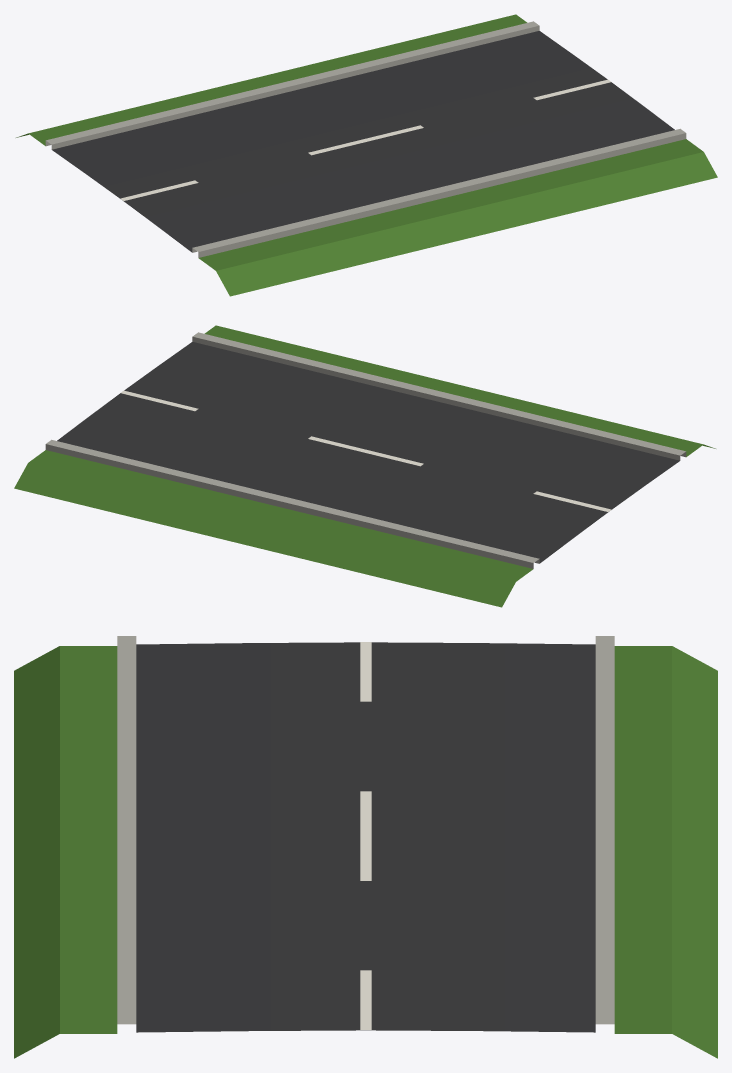
The model's file is road_straight_center.glb.
The picture shows the model from 3 angles, top to bottom: view 1: azimuth 30°, elevation 25°; view 2: azimuth 150°, elevation 25°; view 3: azimuth 270°, elevation 25°; orthographic projection. The views are drawn at different scales.
Parts seen in each view (by area): view 1: road_straight_center_lod0; view 2: road_straight_center_lod0; view 3: road_straight_center_lod0.
Part boxes in pixels (left/top/right/bottom): road_straight_center_lod0: left=16, top=14, right=717, bottom=296; road_straight_center_lod0: left=14, top=325, right=715, bottom=607; road_straight_center_lod0: left=14, top=636, right=717, bottom=1058.
Size of what is drawn, in the model's own units: 12 by 0.5 by 9.2.
